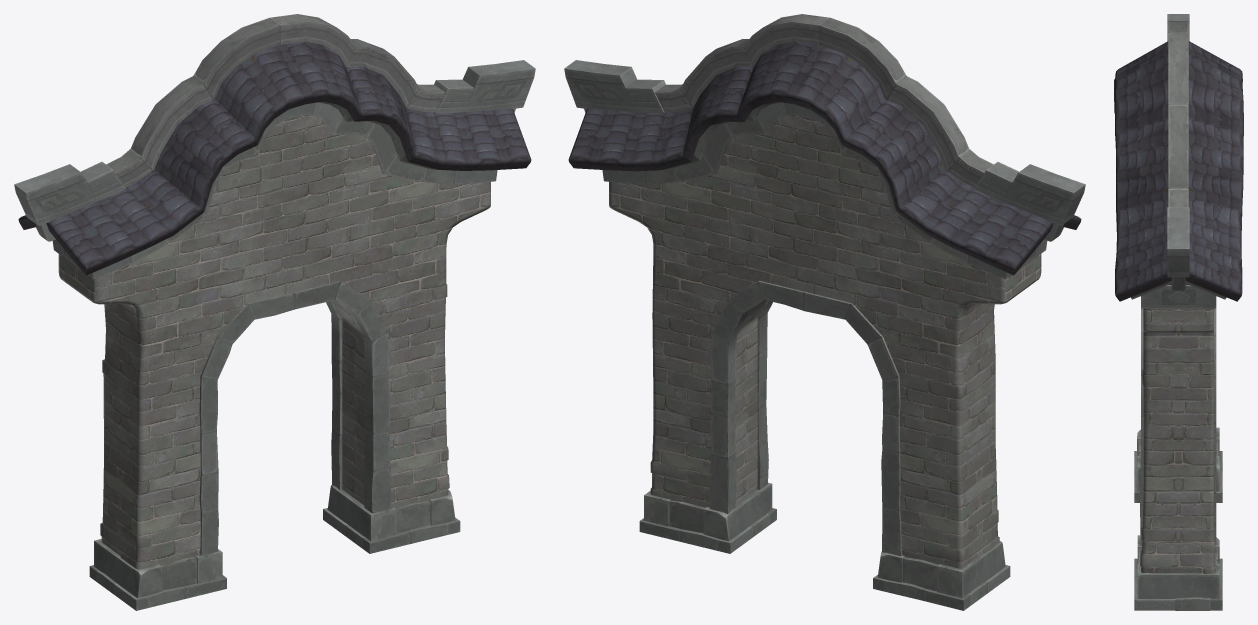
File: Homeworld_Exterior_Cyg_Build_YlbMendong_01_Lod0.fbx
3 renders of one model, left to right at view 1: azimuth 30°, elevation 25°; view 2: azimuth 150°, elevation 25°; view 3: azimuth 270°, elevation 25°, orthographic. The views are drawn at different scales.
Parts seen in each view (by area): view 1: Area_Cyg_Build_QYZ_Comp_Mendong_A_01_Lod0; view 2: Area_Cyg_Build_QYZ_Comp_Mendong_A_01_Lod0; view 3: Area_Cyg_Build_QYZ_Comp_Mendong_A_01_Lod0.
Boxes of the visible parts, <box> form: Area_Cyg_Build_QYZ_Comp_Mendong_A_01_Lod0: <box>14,14,535,610</box>; Area_Cyg_Build_QYZ_Comp_Mendong_A_01_Lod0: <box>564,14,1085,610</box>; Area_Cyg_Build_QYZ_Comp_Mendong_A_01_Lod0: <box>1114,14,1243,610</box>.
Bounding box in the file's own units: 8.2 × 8.19 × 1.91.
